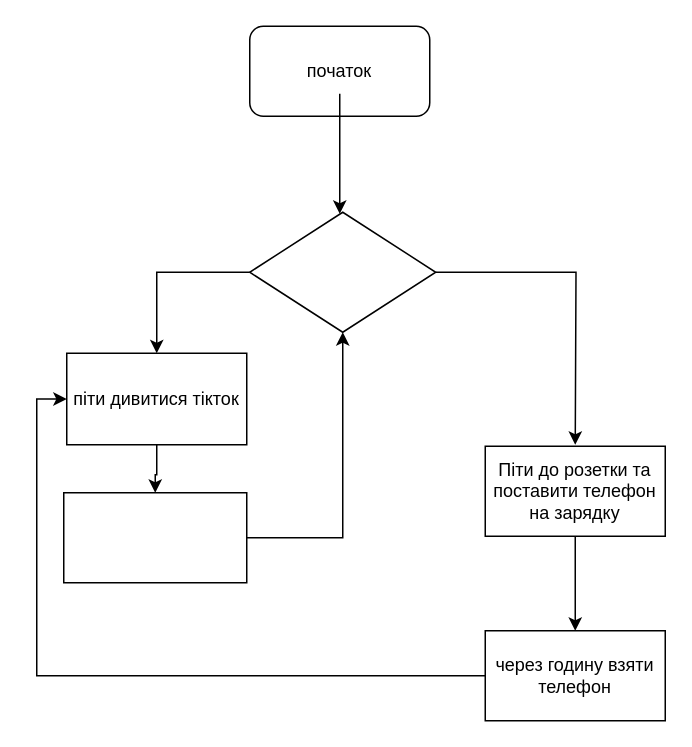
Image size: 692x747. Some labels were removed from this diagram. Each missing label, with the centre of its shape:
"перевірити %" belongs at pixel 154 537.
"У вас на телефоні більше ніж 35%?" belongs at pixel 342 271.
